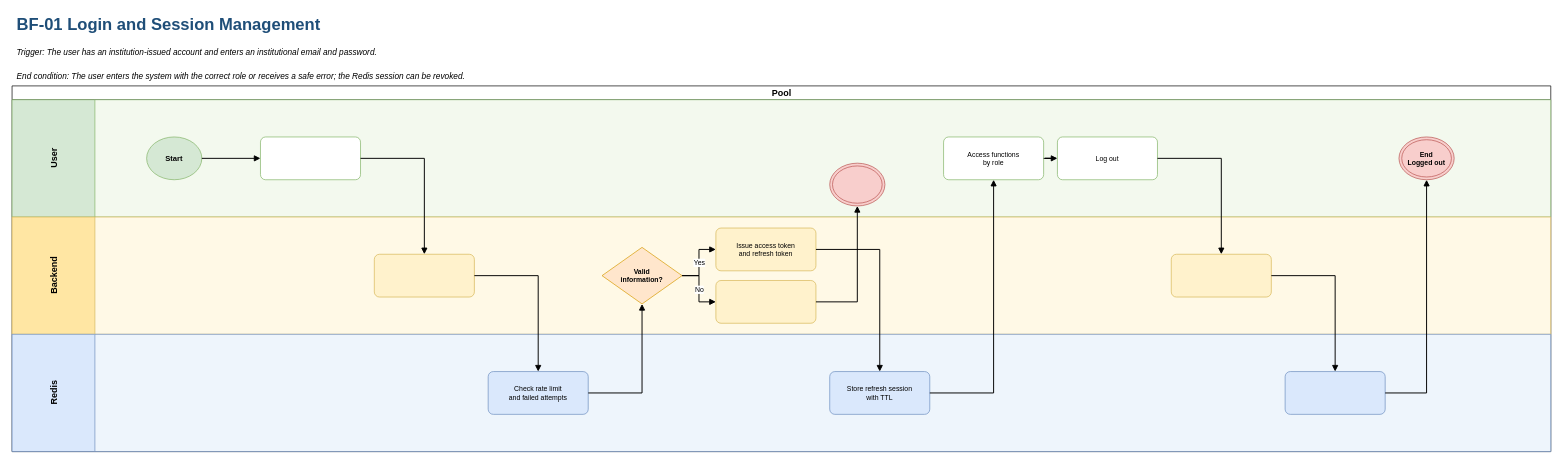
Some shapes in this 1563 by 464 pixel diagram are drawn without their labels. Each missing label, with the centre of its shape:
Delete session: (1334,392)
End Access denied: (857,184)
Enter institutional email and password: (310,158)
Return neutral error: (765,301)
Revoke session: (1221,275)
Validate format and account status: (424,275)
